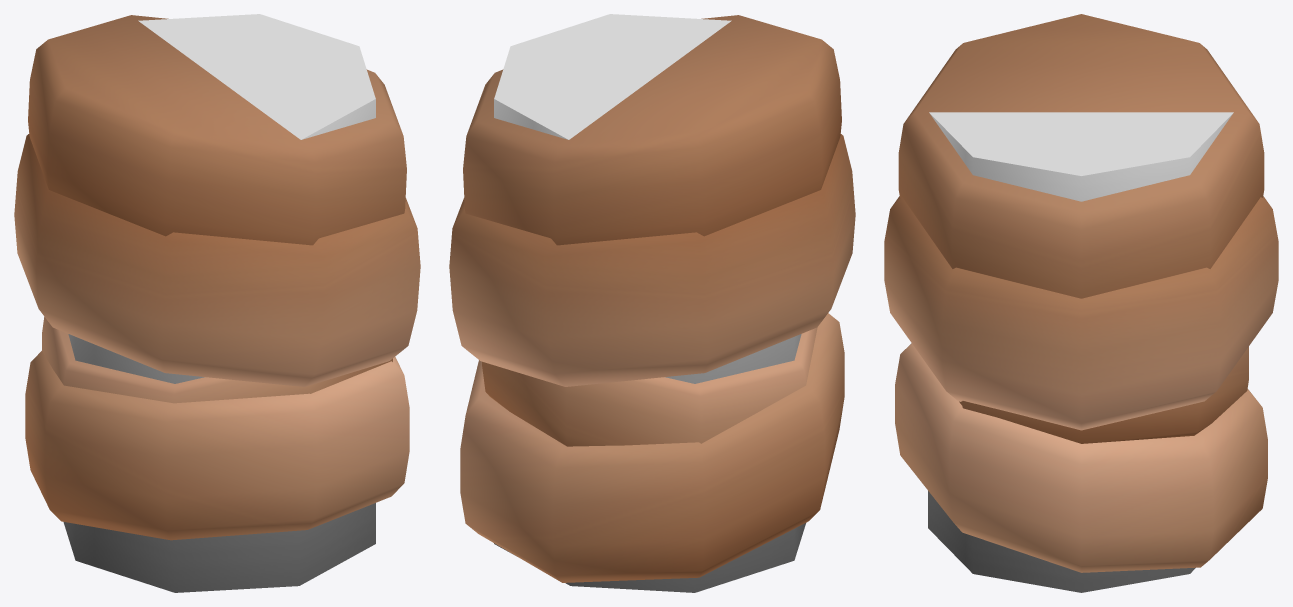
Rendered from stone_grip_046.glb.
3 renders of one model, left to right at view 1: azimuth 30°, elevation 25°; view 2: azimuth 150°, elevation 25°; view 3: azimuth 270°, elevation 25°, orthographic. The views are drawn at different scales.
Visible parts, largest first — view 1: stone_grip.046; view 2: stone_grip.046; view 3: stone_grip.046.
Part boxes in pixels (<box>): stone_grip.046: <box>14,14,420,592</box>; stone_grip.046: <box>449,14,855,592</box>; stone_grip.046: <box>884,14,1278,592</box>.
Bounding box in the file's own units: 2.55 × 3.2 × 2.57.
1 material, 1 textured.
